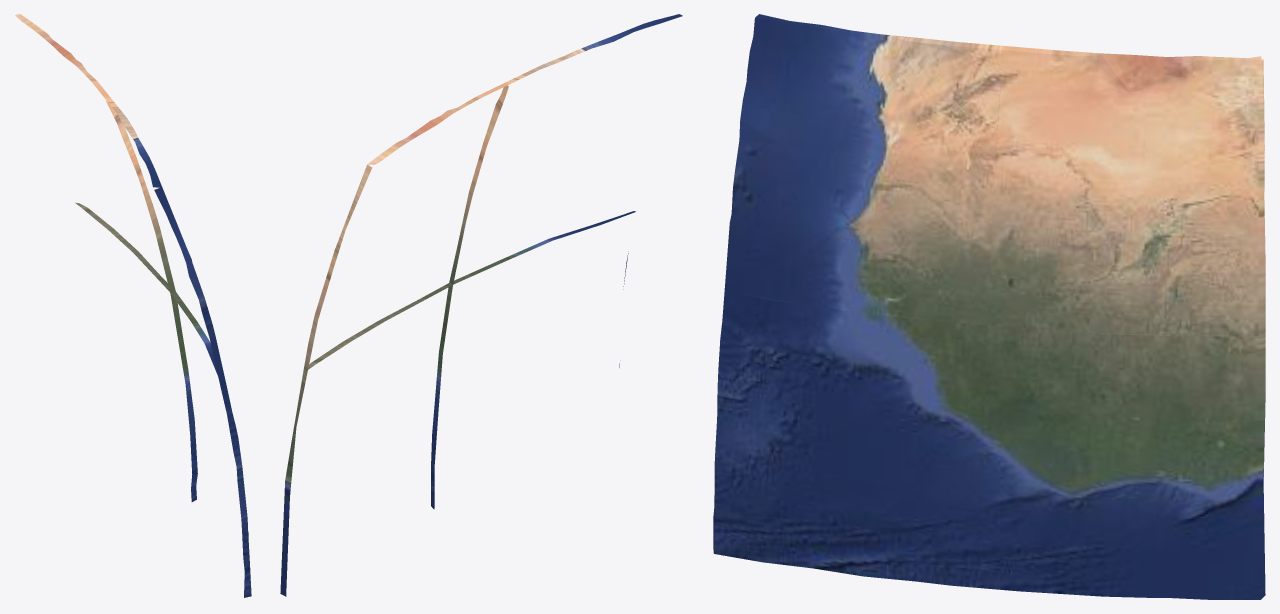
The picture shows the model from 3 angles, left to right: view 1: azimuth 30°, elevation 25°; view 2: azimuth 150°, elevation 25°; view 3: azimuth 270°, elevation 25°; orthographic projection. The views are drawn at different scales.
Size of the model in its own units: 975753 by 2458712 by 2469391.
1 material, 1 textured.
